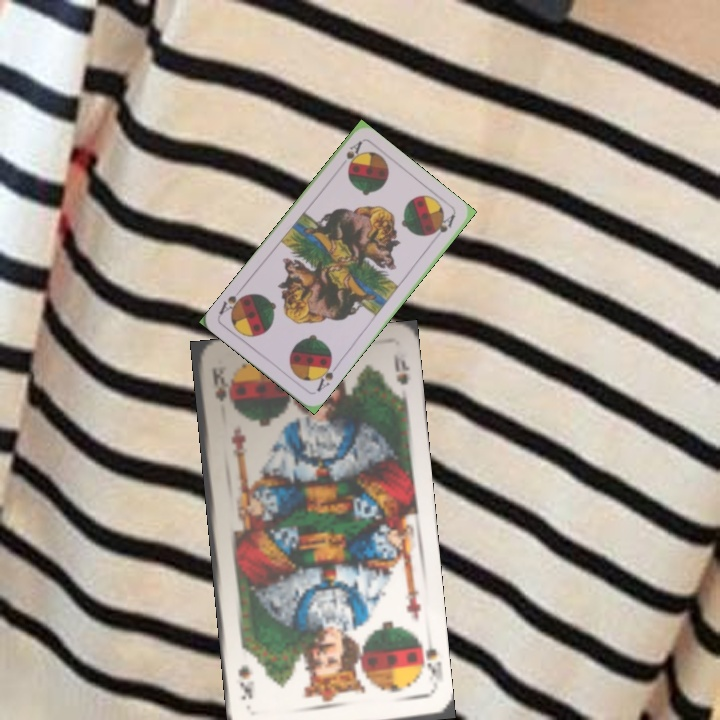SA: (334, 137, 365, 173), (312, 357, 341, 395)
SK: (414, 635, 442, 694), (208, 363, 229, 404)
